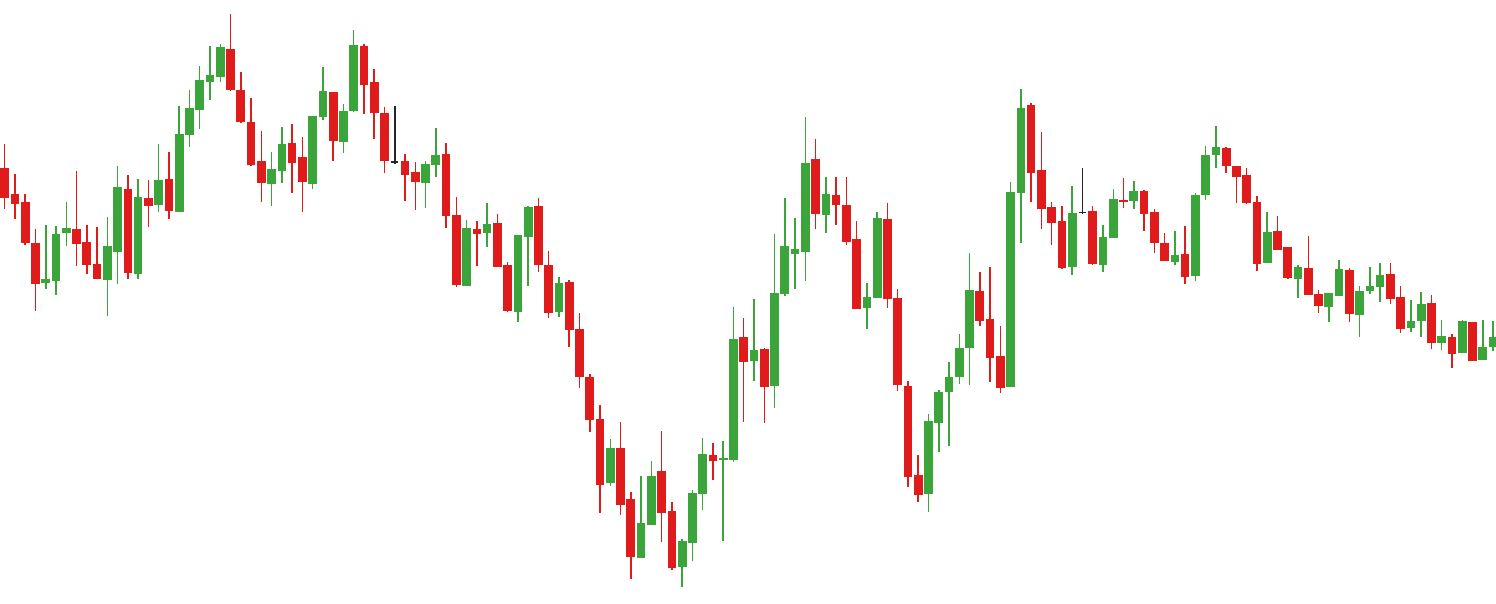buy: (757, 266, 945, 509), (30, 208, 111, 317), (624, 487, 686, 595)
sell: (798, 81, 1038, 255), (1119, 126, 1242, 227), (481, 198, 545, 265)
